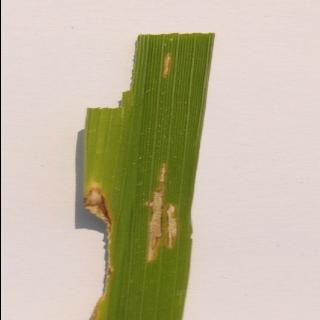Hawar-Daun: (76, 180, 118, 278), (144, 162, 182, 266), (156, 48, 182, 82)
